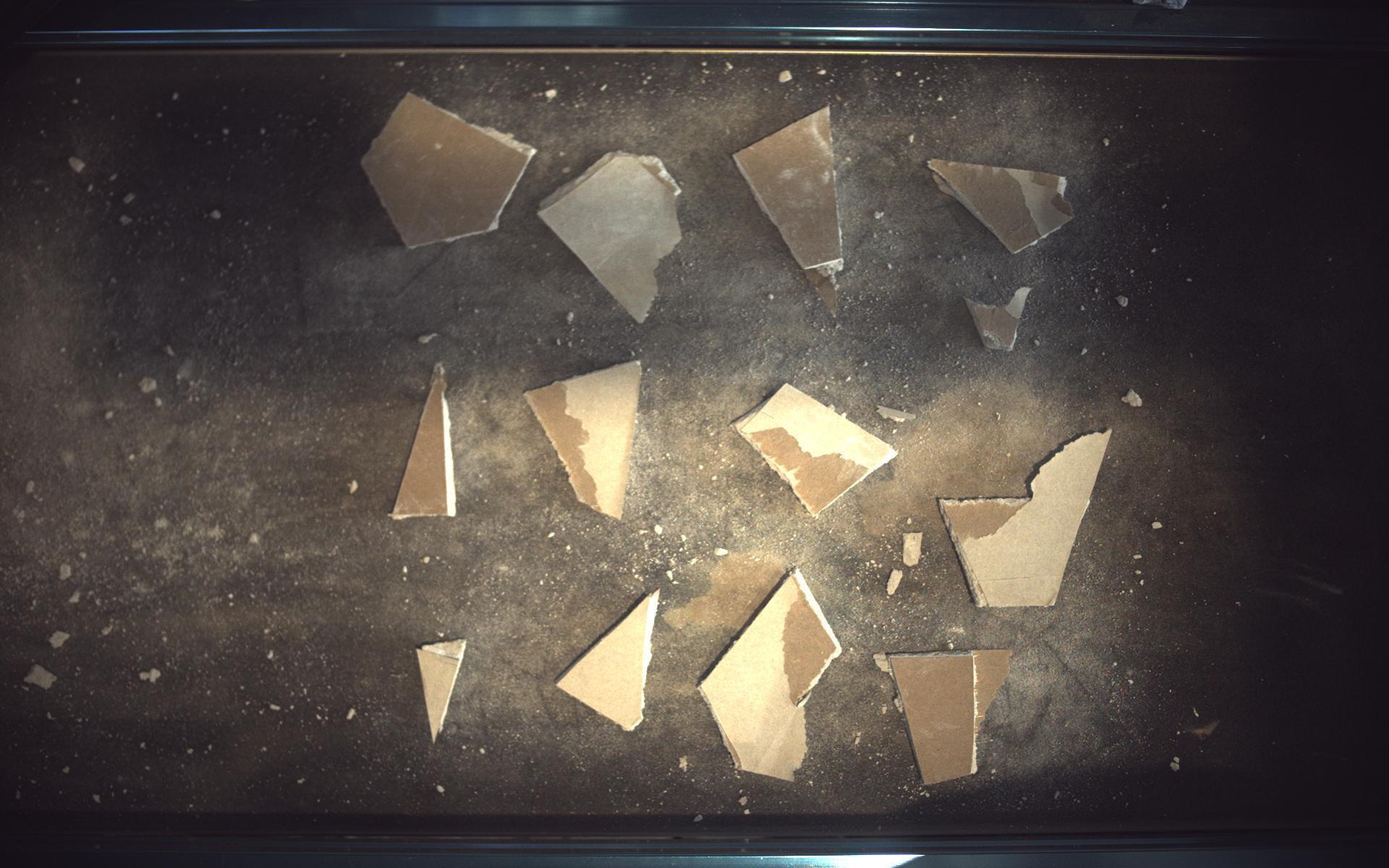gypsum_board: (941, 430, 1113, 608), (700, 570, 844, 782), (362, 92, 536, 247), (538, 150, 682, 322), (734, 106, 846, 316), (734, 384, 899, 517), (876, 650, 1014, 786), (525, 360, 642, 519), (558, 590, 660, 732), (930, 158, 1075, 252), (391, 363, 456, 520), (417, 640, 467, 740), (968, 286, 1033, 351)
